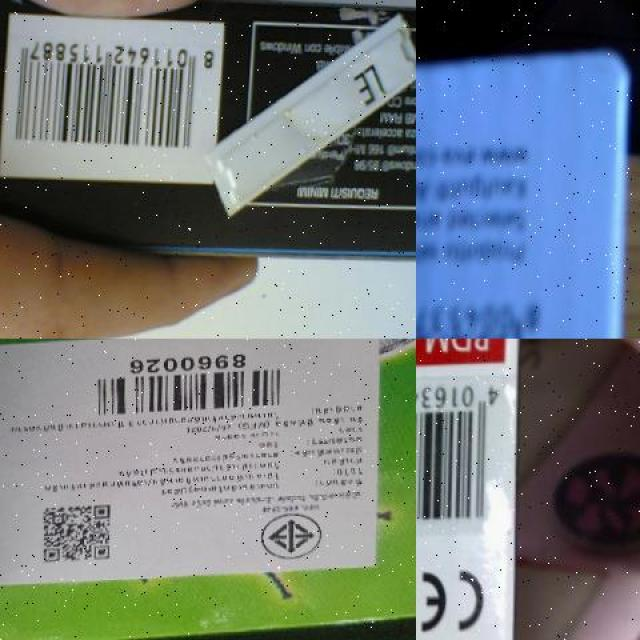Barcode: (0, 6, 225, 194), (416, 374, 511, 546), (86, 354, 302, 422)
